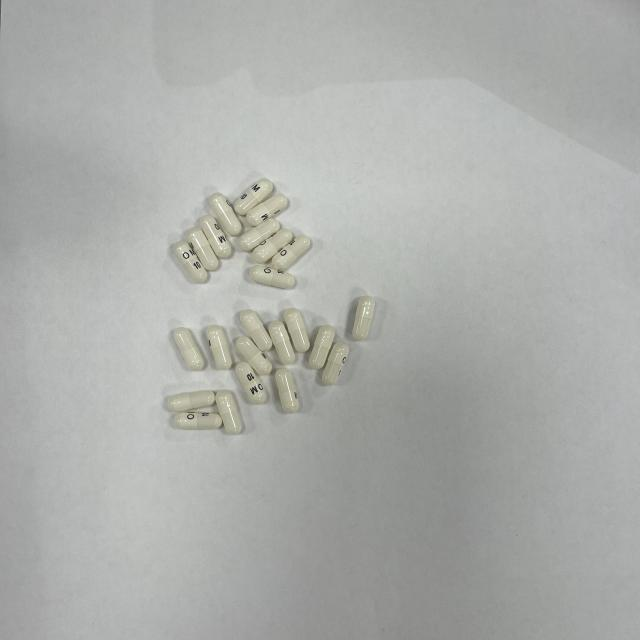Kapsel: (252, 229, 292, 264), (174, 241, 208, 282), (186, 228, 219, 270), (209, 192, 241, 235), (234, 179, 272, 215), (236, 336, 271, 375), (271, 235, 310, 270), (235, 361, 266, 405), (200, 215, 231, 259), (246, 194, 288, 226), (240, 310, 272, 351), (239, 219, 280, 251), (174, 328, 204, 370), (206, 325, 232, 370), (215, 390, 241, 435), (322, 342, 349, 385), (309, 325, 335, 369), (269, 320, 295, 364), (275, 368, 299, 414), (250, 265, 295, 289), (285, 309, 310, 352), (352, 296, 375, 340), (168, 390, 215, 411), (174, 412, 222, 430)
